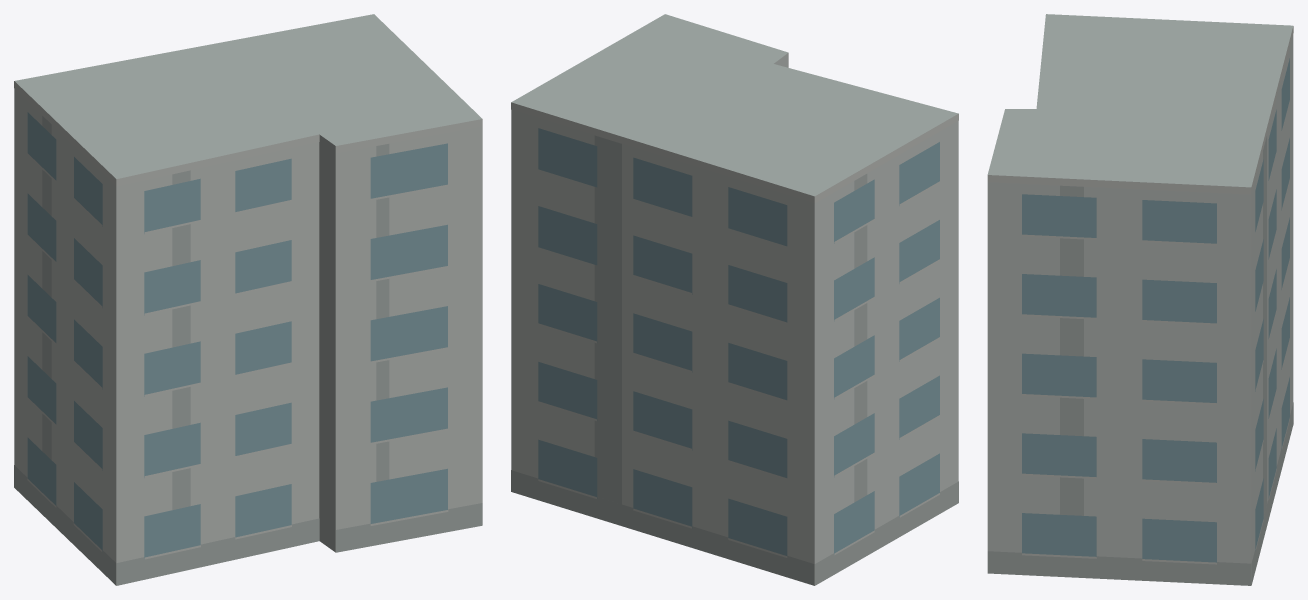
Rendered from survey-upis-32725399.glb.
The picture shows the model from 3 angles, left to right: view 1: azimuth 30°, elevation 25°; view 2: azimuth 150°, elevation 25°; view 3: azimuth 270°, elevation 25°; orthographic projection. The views are drawn at different scales.
Parts seen in each view (by area): view 1: survey-upis-32725399.tmp; view 2: survey-upis-32725399.tmp; view 3: survey-upis-32725399.tmp.
Boxes of the visible parts, <box> form: survey-upis-32725399.tmp: <box>14,14,482,585</box>; survey-upis-32725399.tmp: <box>511,14,958,585</box>; survey-upis-32725399.tmp: <box>987,14,1293,585</box>.
Bounding box in the file's own units: 12.33 × 13.2 × 9.19.
